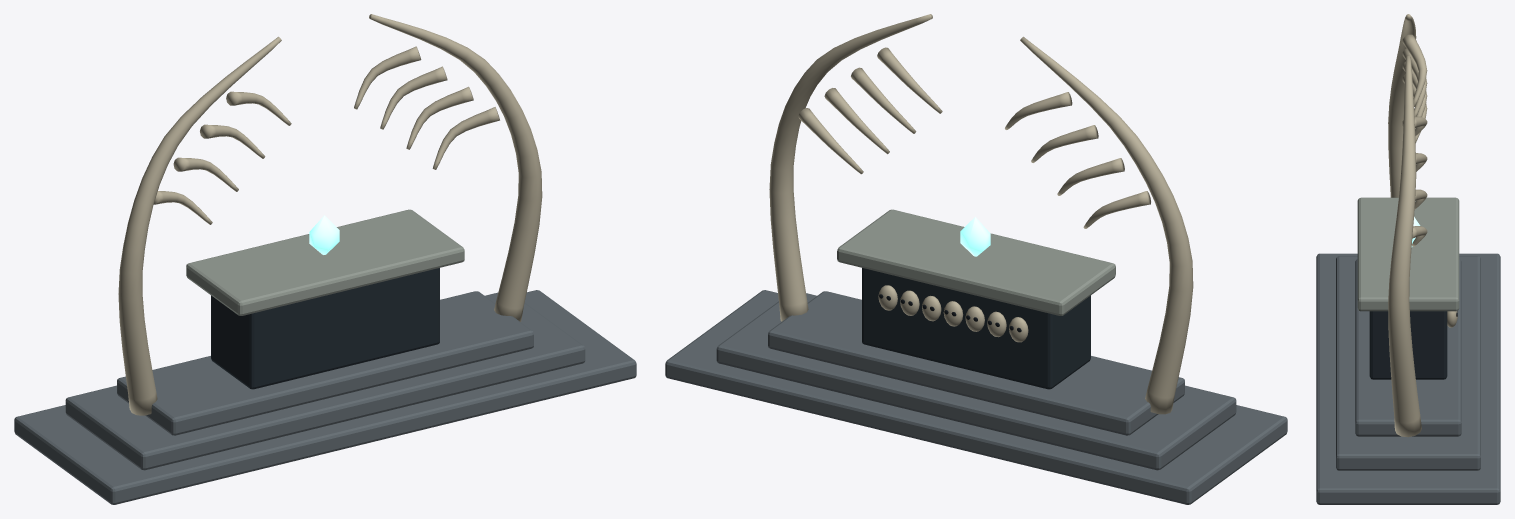
Rendered from reliquary_altar.glb.
3 views of the same model, side by side, from view 1: azimuth 30°, elevation 25°; view 2: azimuth 150°, elevation 25°; view 3: azimuth 270°, elevation 25° (orthographic). The views are drawn at different scales.
Parts seen in each view (by area): view 1: Body__stone, Body__bone, Body__recess, Body__edge, Body__soul; view 2: Body__stone, Body__bone, Body__edge, Body__recess, Body__soul; view 3: Body__stone, Body__bone, Body__edge, Body__recess.
Part boxes in pixels (bbox=[...]): Body__stone: bbox=[14, 290, 636, 504]; Body__bone: bbox=[118, 14, 542, 415]; Body__recess: bbox=[211, 268, 439, 389]; Body__edge: bbox=[186, 209, 464, 315]; Body__soul: bbox=[309, 215, 339, 254]; Body__stone: bbox=[665, 290, 1287, 504]; Body__bone: bbox=[769, 14, 1193, 414]; Body__edge: bbox=[837, 209, 1115, 315]; Body__recess: bbox=[862, 268, 1090, 389]; Body__soul: bbox=[960, 217, 990, 256]; Body__stone: bbox=[1316, 253, 1500, 504]; Body__bone: bbox=[1388, 14, 1457, 437]; Body__edge: bbox=[1357, 197, 1459, 311]; Body__recess: bbox=[1369, 311, 1447, 379].
Size of the model in its own units: 5.8 by 4.02 by 1.9.
